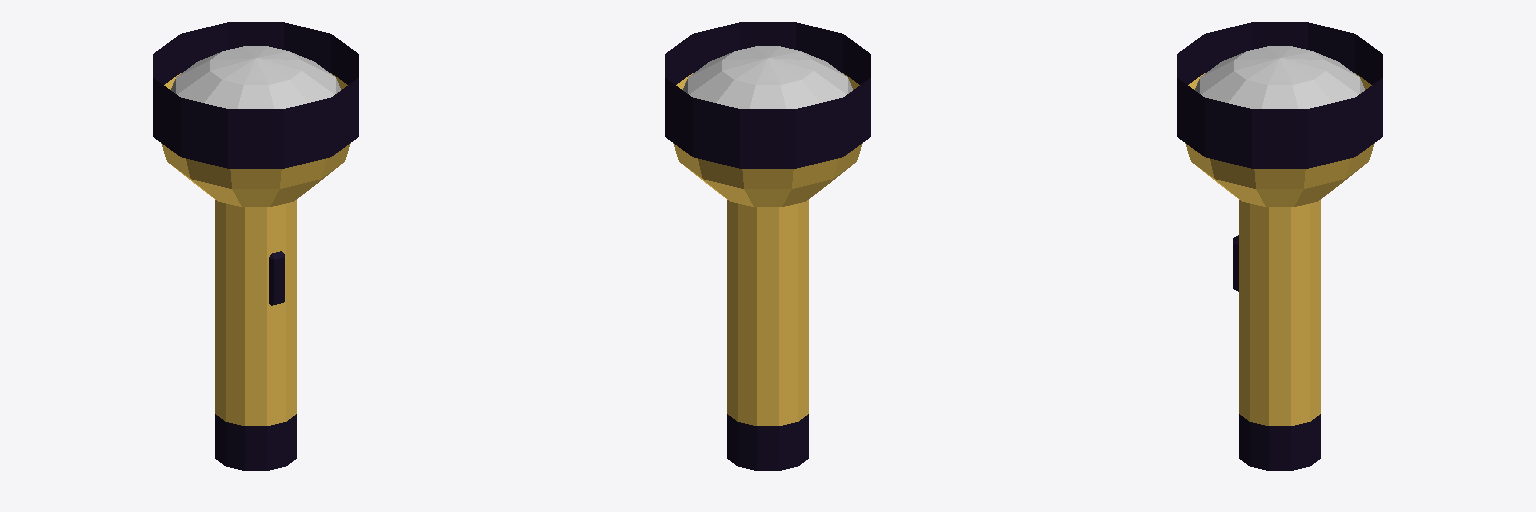
The picture shows the model from 3 angles: view 1: azimuth 30°, elevation 25°; view 2: azimuth 150°, elevation 25°; view 3: azimuth 270°, elevation 25°; orthographic projection.
Visible parts, largest first — view 1: cylinder, sphere, beveled_cuboid; view 2: cylinder, sphere; view 3: cylinder, sphere.
Part boxes in pixels (left/top/right/bottom): cylinder: left=153, top=22, right=358, bottom=470; sphere: left=161, top=46, right=350, bottom=206; beveled_cuboid: left=269, top=251, right=284, bottom=305; cylinder: left=665, top=22, right=870, bottom=470; sphere: left=673, top=46, right=862, bottom=206; cylinder: left=1177, top=22, right=1382, bottom=470; sphere: left=1185, top=46, right=1374, bottom=206.
Bounding box in the file's own units: 0.3125 × 0.6625 × 0.3125.
Materials: 3 (2 with a texture image).